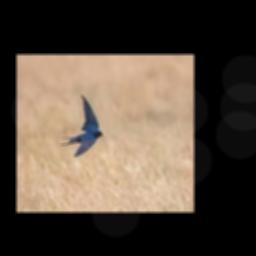Swallow: (60, 94, 103, 155)
